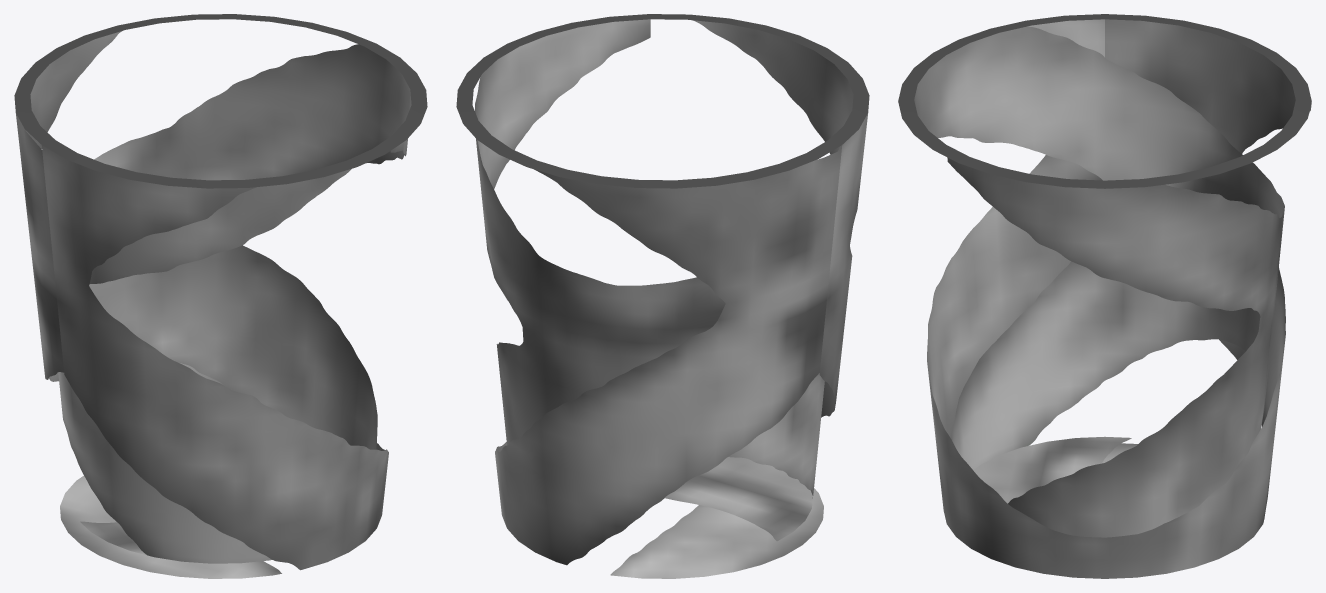
The model's file is Trashcan.fbx.
3 renders of one model, left to right at view 1: azimuth 30°, elevation 25°; view 2: azimuth 150°, elevation 25°; view 3: azimuth 270°, elevation 25°, orthographic.
Visible parts, largest first — view 1: TrashCan; view 2: TrashCan; view 3: TrashCan.
Boxes of the visible parts, box(x1,y1,x2,y2) form: TrashCan: box(14, 14, 427, 578); TrashCan: box(456, 14, 869, 578); TrashCan: box(898, 14, 1311, 578).
Bounding box in the file's own units: 256 × 281 × 256.
Materials: 2 (1 with a texture image).
